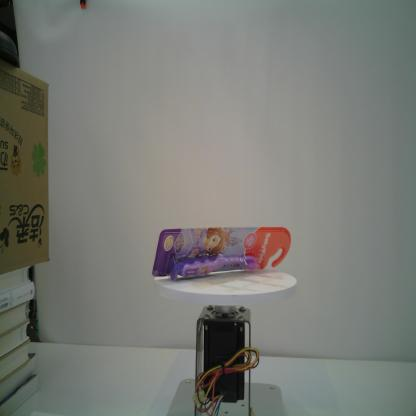Personal Hygiene: (152, 226, 292, 282)
